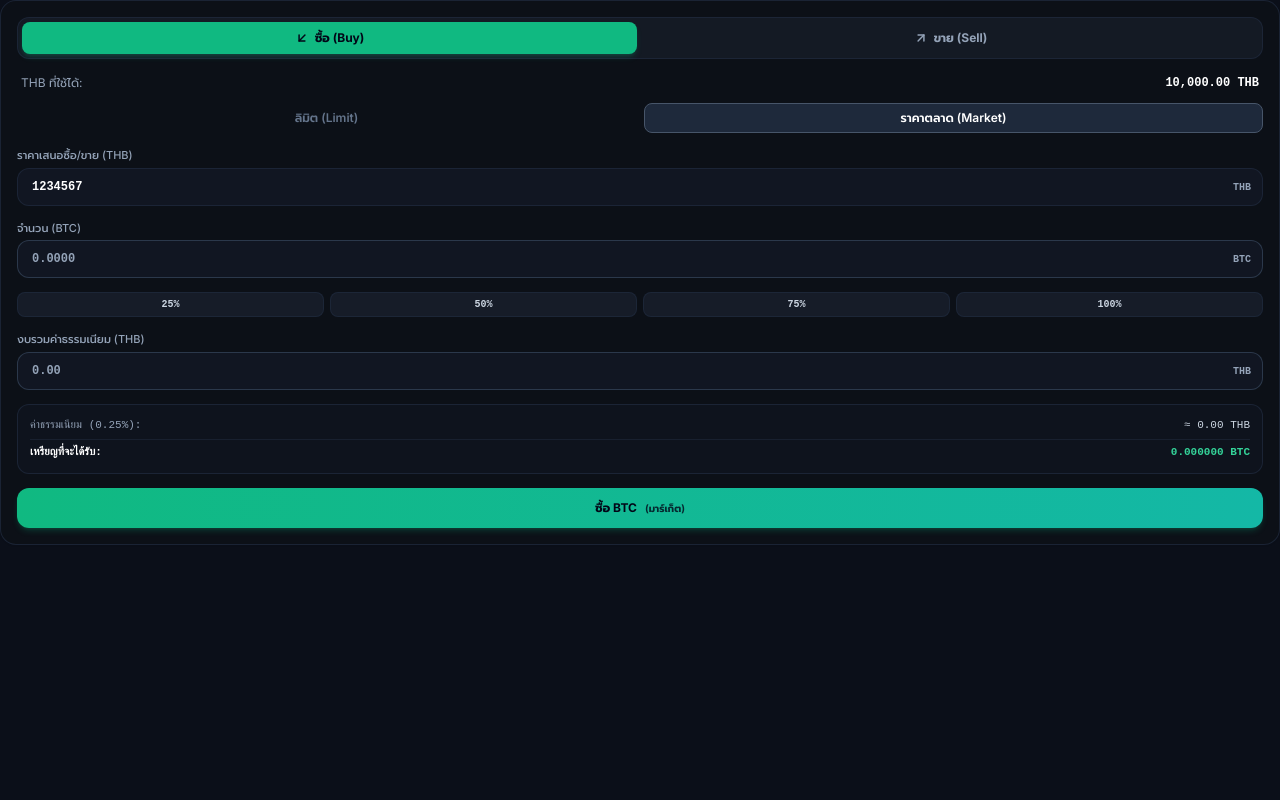
Test: Spot trading integration › keeps the THB budget unchanged when the coin amount is floored to pair precision
Click the button "ลิมิต (Limit)".
click(326, 118)  # box [17,103,636,133]
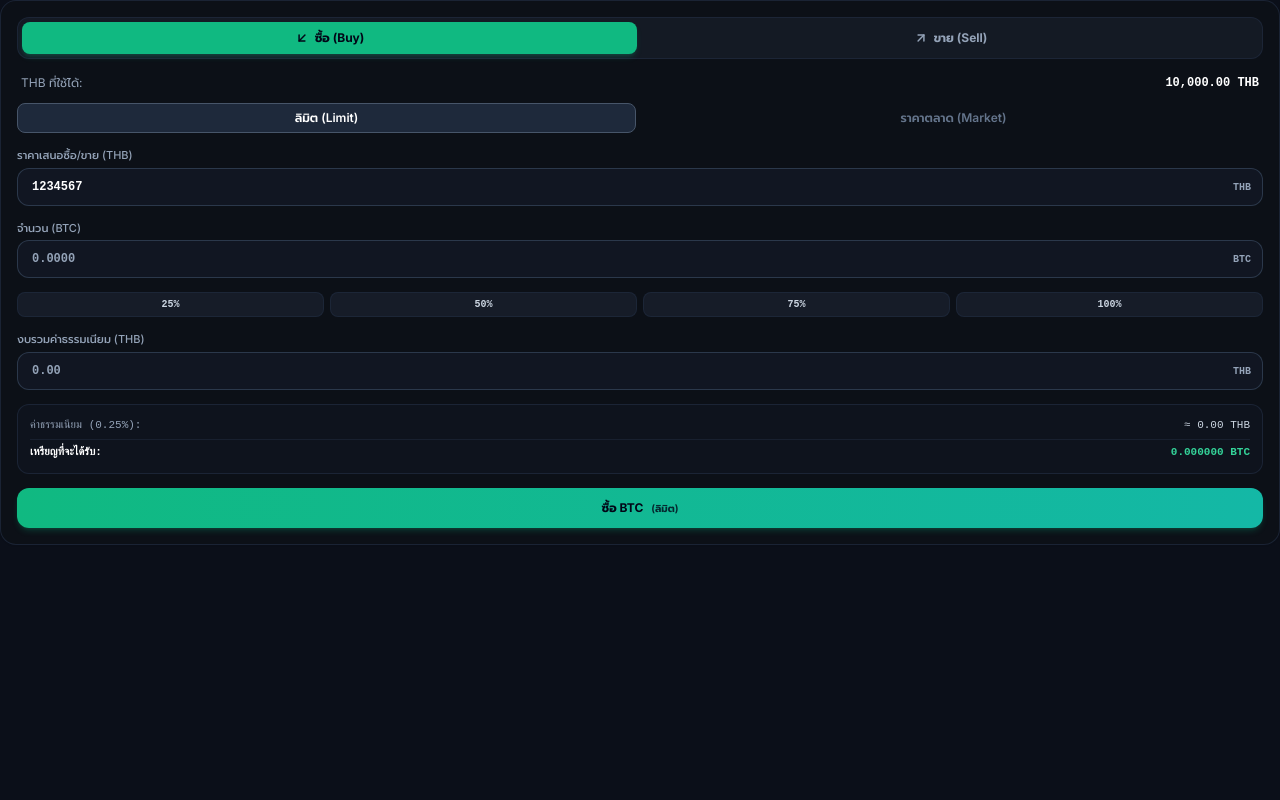
Type "1000" into the number field with placeholder "0.00".
click(640, 370); type("1000")  # box [17,352,1263,390]
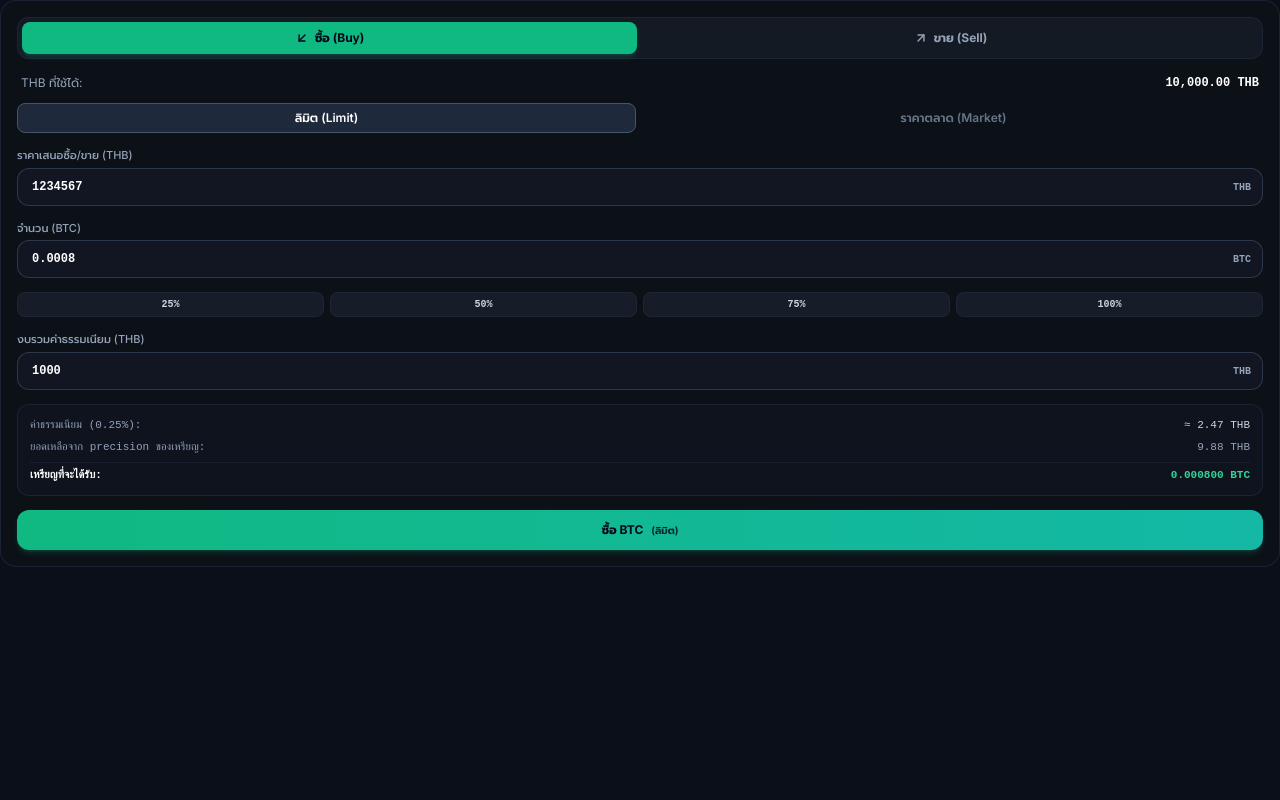
expect the number field below "ราคาเสนอซื้อ/ขาย (" holds "1234567": met, box [17,168,1263,206]
expect the number field below "จำนวน (" holds "0.0008": met, box [17,240,1263,278]
expect the text "ยอดเหลือจาก precision ของเหรียญ:" is shown: met, box [30,439,206,456]
